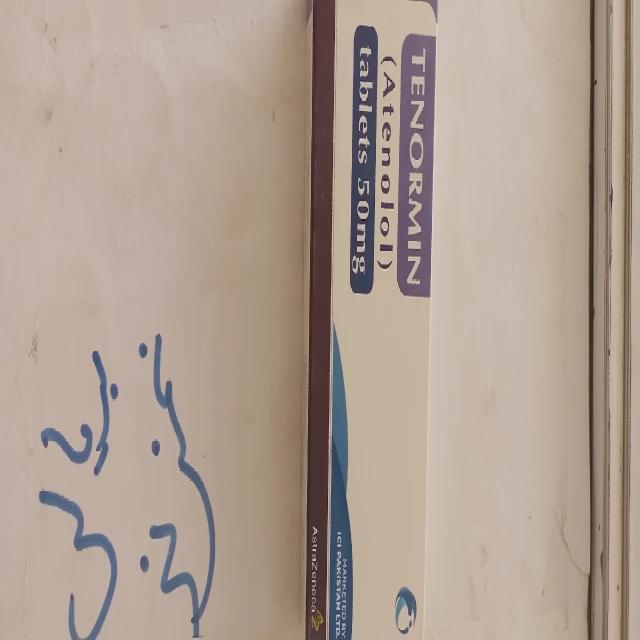drug-name: (404, 42, 429, 295)
